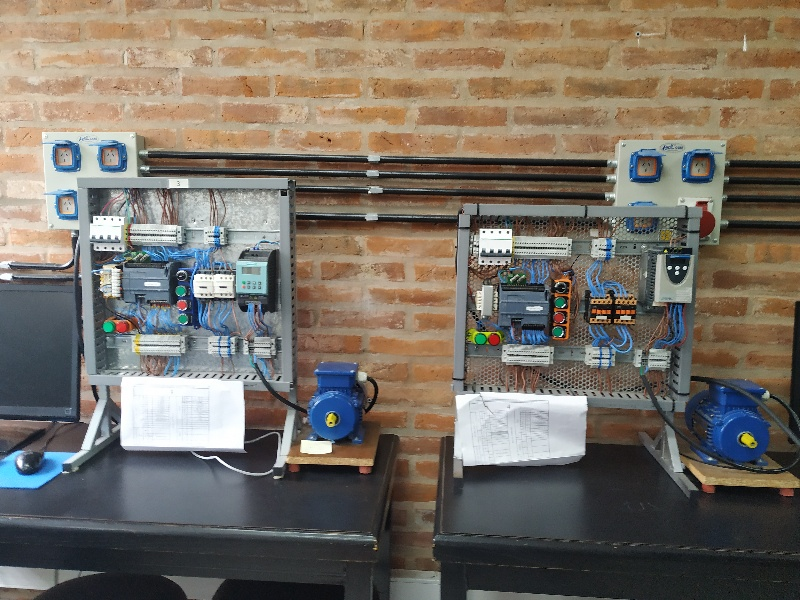Tablero 3: (85, 186, 287, 383)
Tablero 4: (468, 211, 690, 401)
